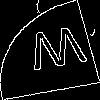W: (25, 25, 91, 80)
